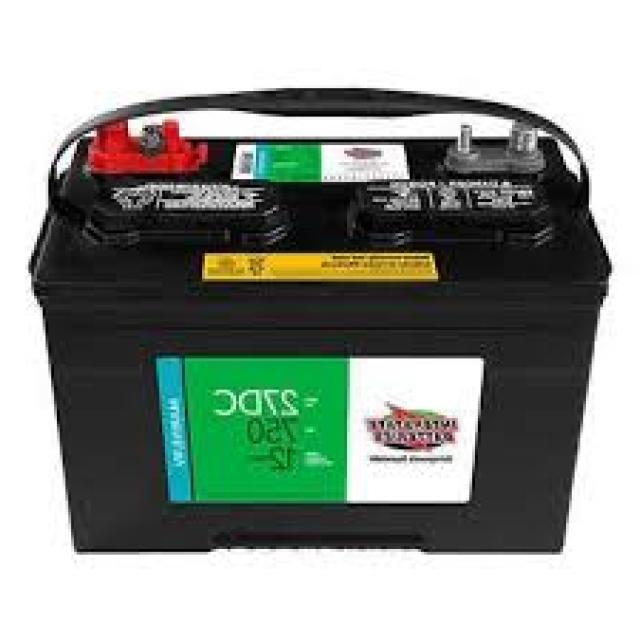battery: (29, 82, 621, 558)
